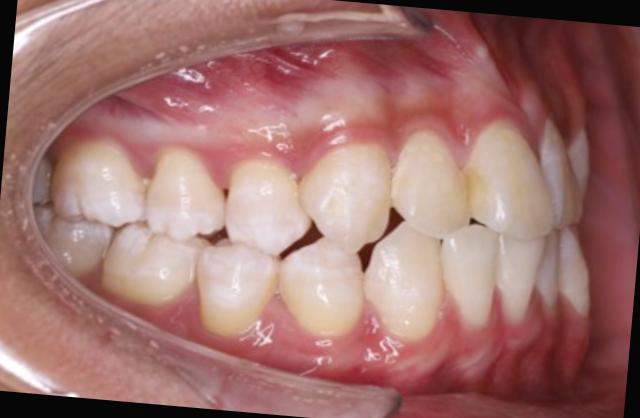canine class III 1/4: (272, 126, 456, 360)
molar class III full class: (37, 137, 210, 319)
